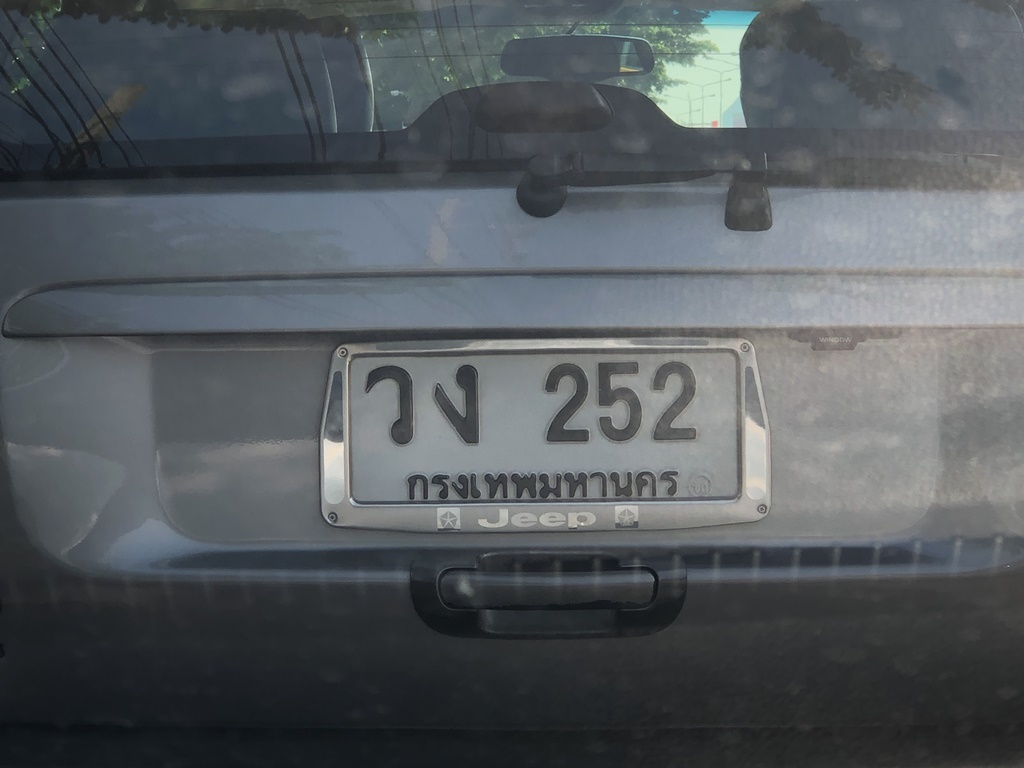five: (590, 342, 649, 450)
